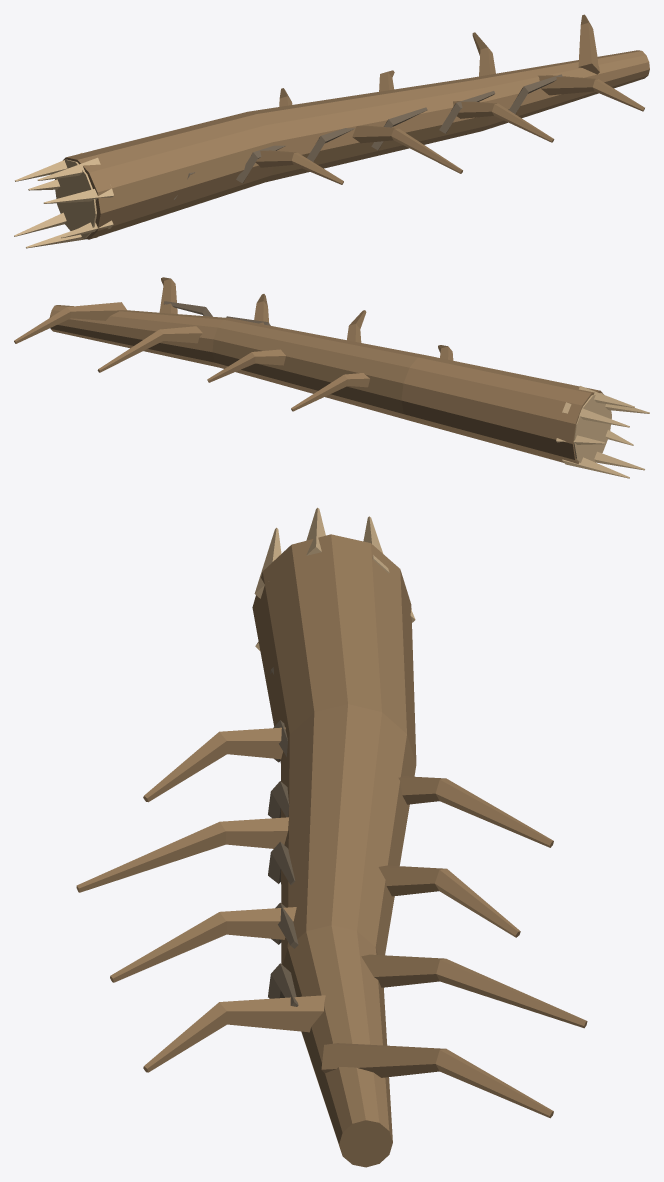
Rendered from fallen_log_01.glb.
The picture shows the model from 3 angles, top to bottom: view 1: azimuth 30°, elevation 25°; view 2: azimuth 150°, elevation 25°; view 3: azimuth 270°, elevation 25°; orthographic projection. The views are drawn at different scales.
Visible parts, largest first — view 1: Fallen_log_800_01; view 2: Fallen_log_800_01; view 3: Fallen_log_800_01.
Part boxes in pixels (<box>): Fallen_log_800_01: <box>14,14,649,248</box>; Fallen_log_800_01: <box>14,277,649,478</box>; Fallen_log_800_01: <box>76,507,587,1167</box>.
Size of the model in its own units: 7.9 by 0.9636 by 3.02.
